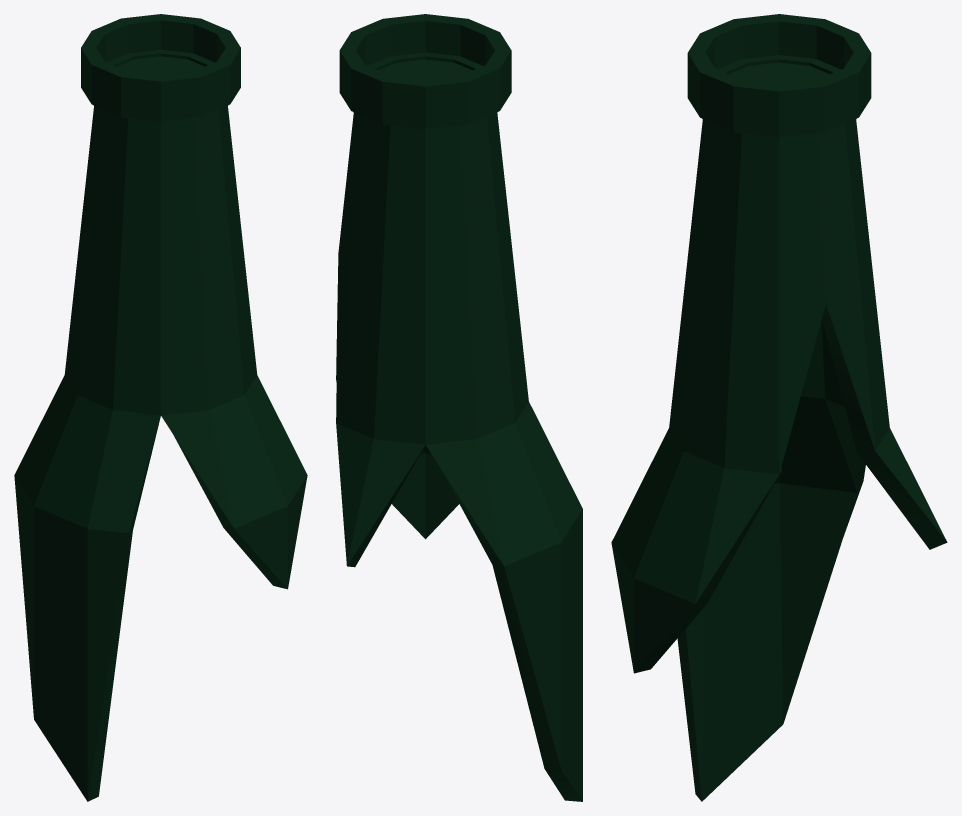
The model's file is bottle2broken2.fbx.
The picture shows the model from 3 angles, left to right: view 1: azimuth 30°, elevation 25°; view 2: azimuth 150°, elevation 25°; view 3: azimuth 270°, elevation 25°; orthographic projection. The views are drawn at different scales.
Parts seen in each view (by area): view 1: bottle2_broken2; view 2: bottle2_broken2; view 3: bottle2_broken2.
Part boxes in pixels (x1,y1,x2,y2): bottle2_broken2: [14, 14, 307, 801]; bottle2_broken2: [336, 14, 582, 801]; bottle2_broken2: [611, 14, 947, 801].
Size of the model in its own units: 8.01 by 22.63 by 8.59.
